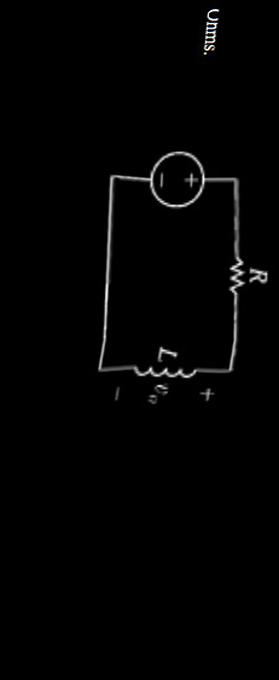Battery: (127, 130, 218, 222)
